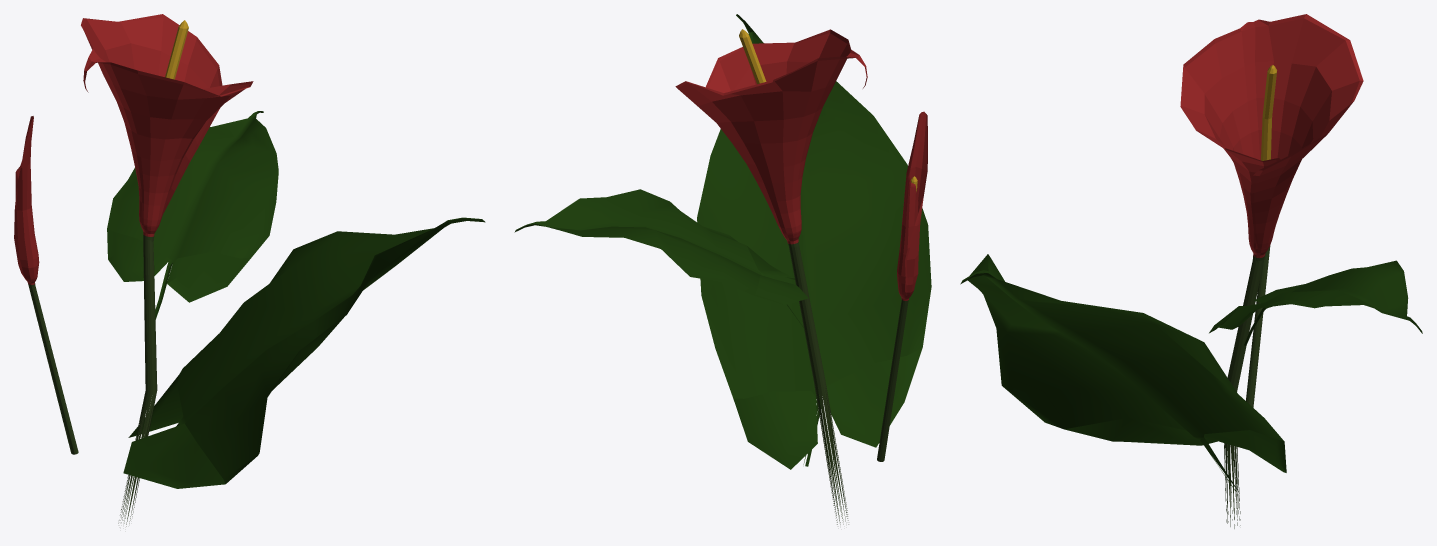
The picture shows the model from 3 angles, left to right: view 1: azimuth 30°, elevation 25°; view 2: azimuth 150°, elevation 25°; view 3: azimuth 270°, elevation 25°; orthographic projection. The views are drawn at different scales.
Visible parts, largest first — view 1: b57fa97a; view 2: b57fa97a; view 3: b57fa97a.
Part boxes in pixels (box(x1,y1,x2,y2)): b57fa97a: box(14, 14, 485, 526); b57fa97a: box(514, 14, 931, 524); b57fa97a: box(960, 14, 1422, 528).
Size of the model in its own units: 0.073 by 0.1032 by 0.0847.
